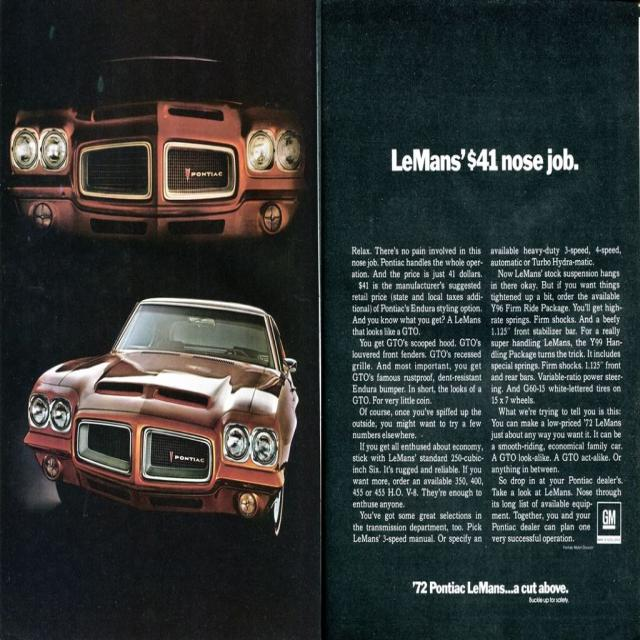car: (23, 297, 297, 532), (6, 46, 307, 251)
